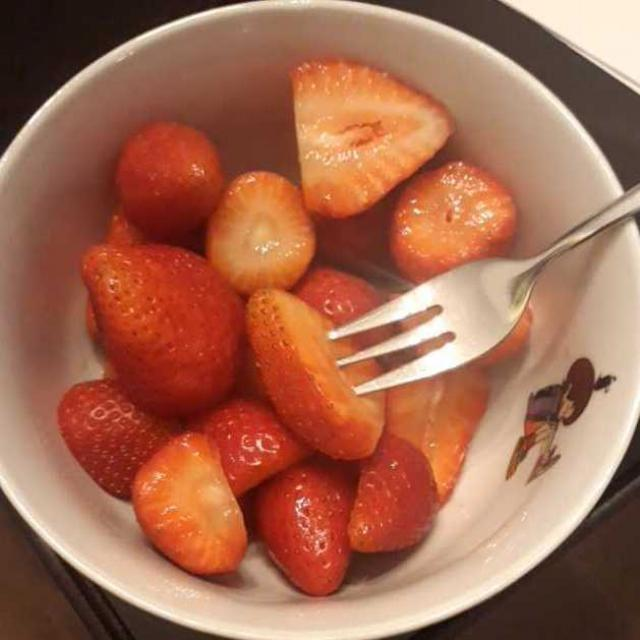strawberries: (68, 91, 498, 567)
